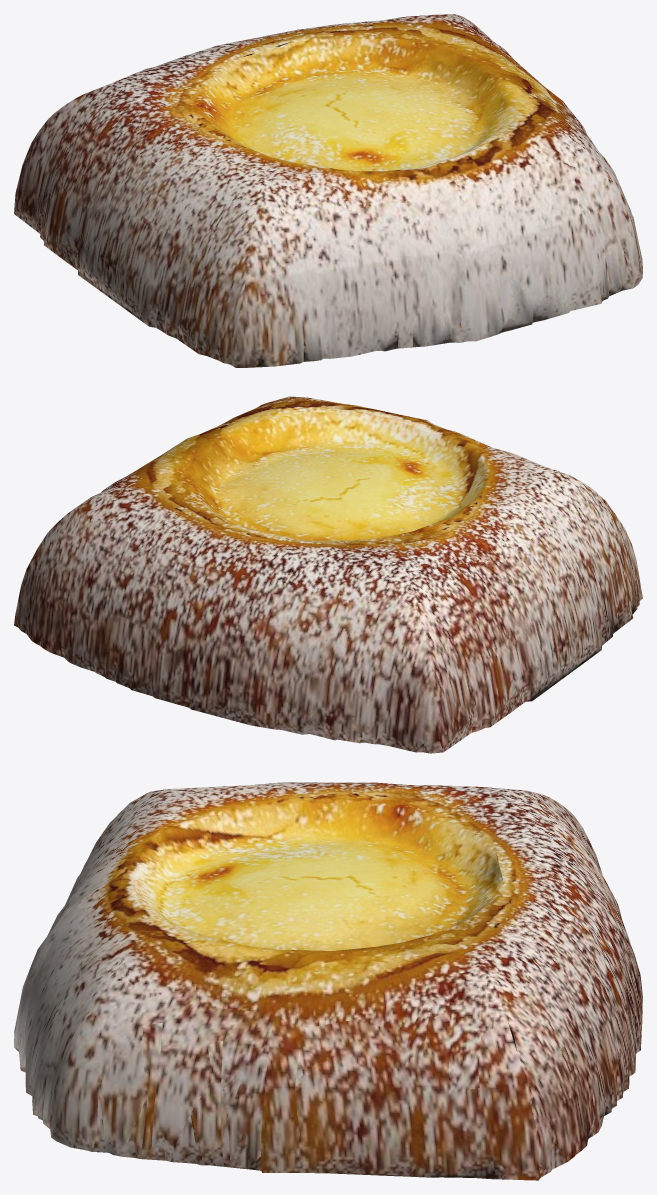
File: prop_cream_cheese_danish.glb
3 renders of one model, top to bottom at view 1: azimuth 30°, elevation 25°; view 2: azimuth 150°, elevation 25°; view 3: azimuth 270°, elevation 25°, orthographic. The views are drawn at different scales.
Visible parts, largest first — view 1: Pastry; view 2: Pastry; view 3: Pastry.
Part boxes in pixels (x1=…): Pastry: x1=14, y1=14, x2=642, y2=367; Pastry: x1=14, y1=396, x2=642, y2=753; Pastry: x1=14, y1=782, x2=642, y2=1180.
Size of the model in its own units: 0.1193 by 0.037 by 0.1151.
1 material, 1 textured.
